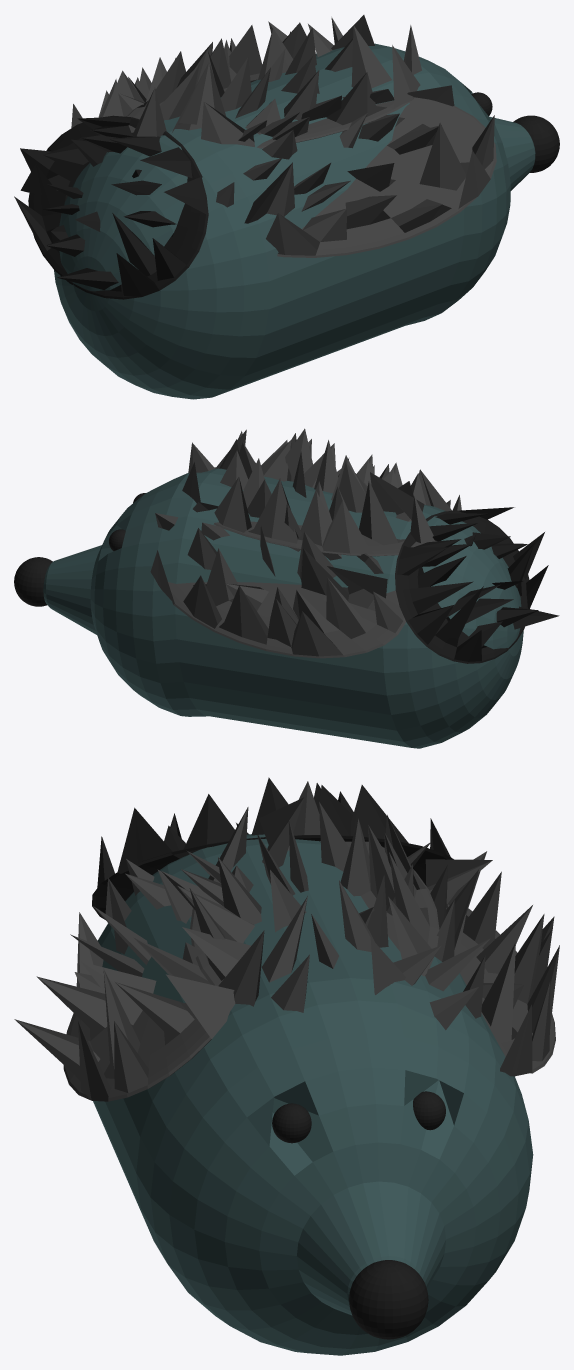
File: jez.glb
3 renders of one model, top to bottom at view 1: azimuth 30°, elevation 25°; view 2: azimuth 150°, elevation 25°; view 3: azimuth 270°, elevation 25°, orthographic. The views are drawn at different scales.
Visible parts, largest first — view 1: Sphere, Sphere.006, Sphere.001, Sphere.007, Sphere.005, Sphere.002; view 2: Sphere, Sphere.005, Sphere.001, Sphere.007, Sphere.006, Sphere.002; view 3: Sphere, Sphere.006, Sphere.001, Sphere.005, Sphere.007, Sphere.002, Sphere.004, Sphere.003.
Part boxes in pixels (x1,y1,x2,y2): Sphere: [54, 43, 535, 399]; Sphere.006: [216, 85, 496, 257]; Sphere.001: [126, 15, 421, 148]; Sphere.007: [14, 115, 208, 299]; Sphere.005: [71, 17, 342, 127]; Sphere.002: [513, 115, 559, 172]; Sphere: [43, 468, 523, 748]; Sphere.005: [150, 479, 405, 658]; Sphere.001: [182, 428, 436, 556]; Sphere.007: [395, 507, 559, 663]; Sphere.006: [214, 429, 461, 511]; Sphere.002: [14, 557, 52, 606]; Sphere: [93, 834, 533, 1355]; Sphere.006: [14, 851, 254, 1101]; Sphere.001: [189, 781, 439, 1012]; Sphere.005: [367, 842, 559, 1076]; Sphere.007: [92, 777, 453, 919]; Sphere.002: [349, 1260, 428, 1339]; Sphere.004: [272, 1103, 311, 1143]; Sphere.003: [413, 1091, 445, 1130].
Bounding box in the file's own units: 1.36 × 0.7075 × 0.822.
